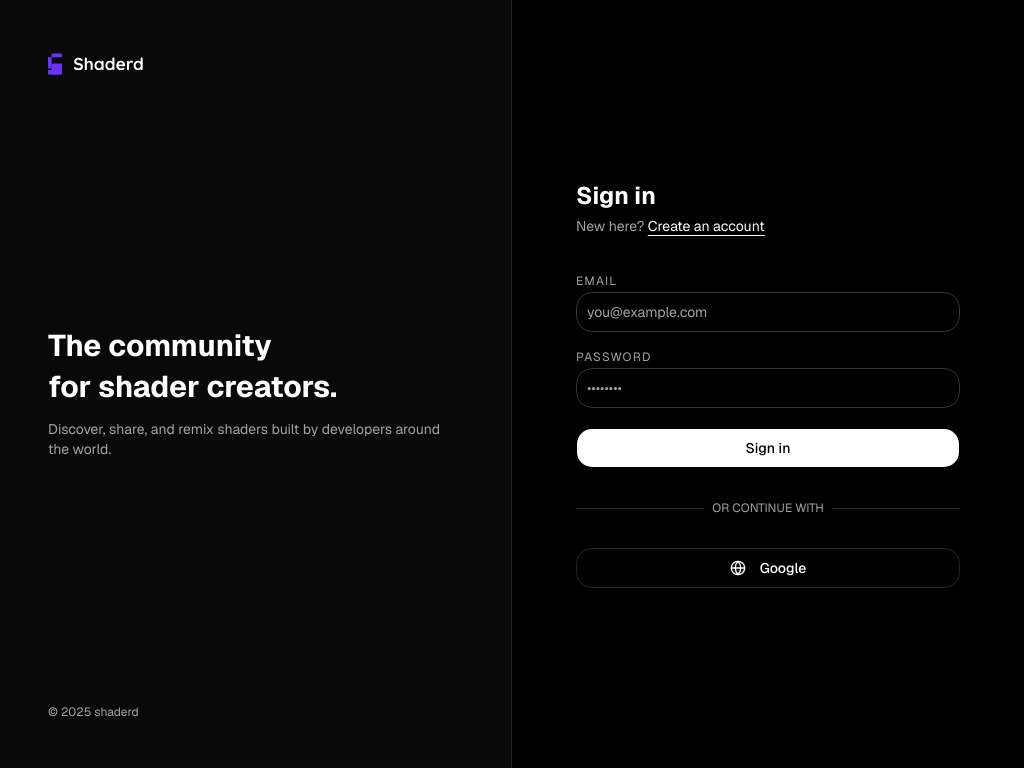
Test case: login page › shows validation errors and failed login message
Expected: the heading "Sign in" is shown, x1=576 y1=180 x2=656 y2=211
Expected: the link "Create an account" is shown, x1=648 y1=217 x2=765 y2=235
Click the button "Sign in" at (768, 448), box x1=576 y1=428 x2=960 y2=468
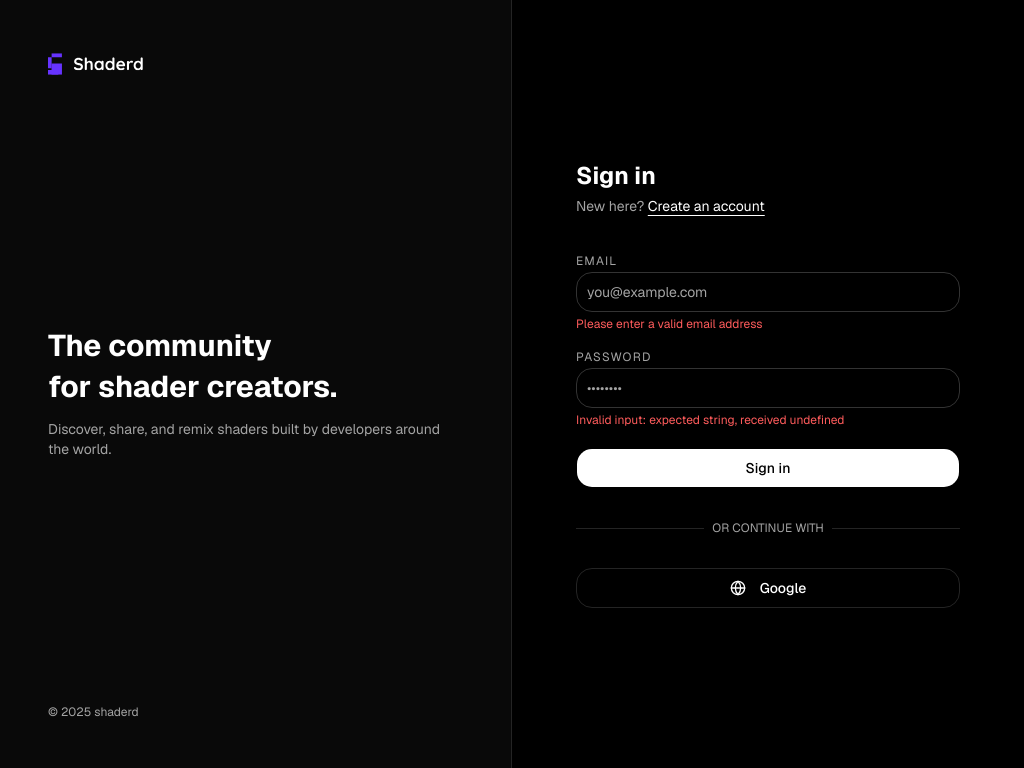
Result: the text "Please enter a valid email address" is shown at x1=576 y1=316 x2=763 y2=332
Result: the text "Invalid input: expected string, received undefined" is shown at x1=576 y1=412 x2=844 y2=428
Type "john@example.com" into the field with placeholder "you@example.com" at (768, 292), box x1=576 y1=272 x2=960 y2=312
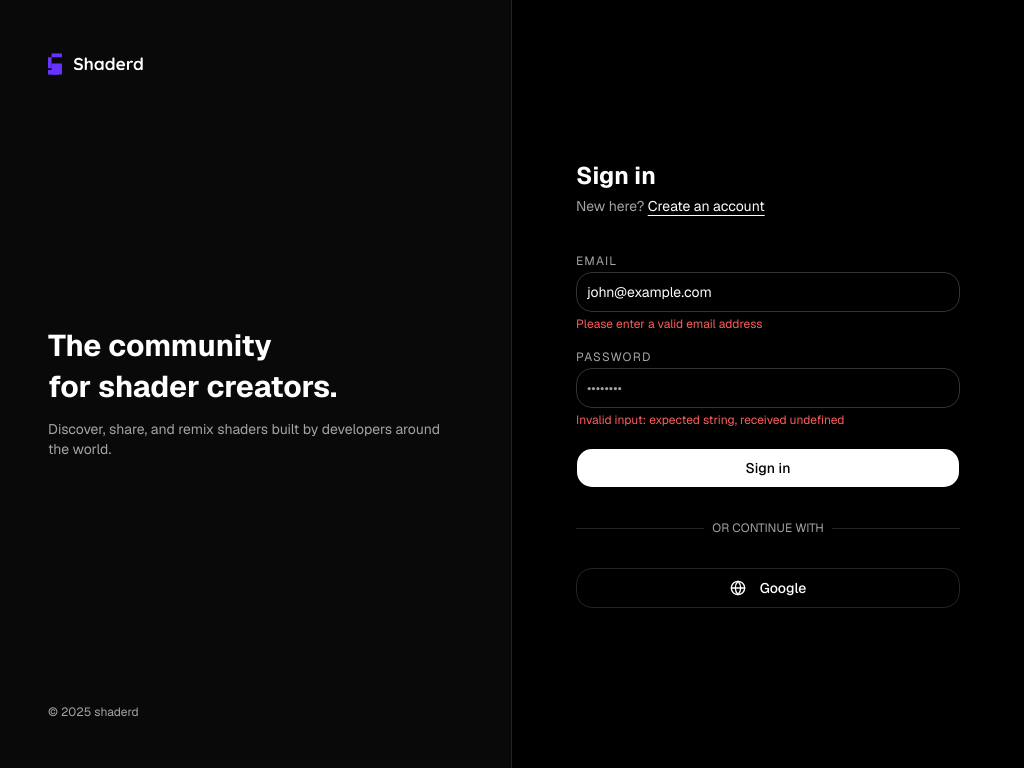
Type "secret" into the password field with placeholder "••••••••" at (768, 388), box x1=576 y1=368 x2=960 y2=408
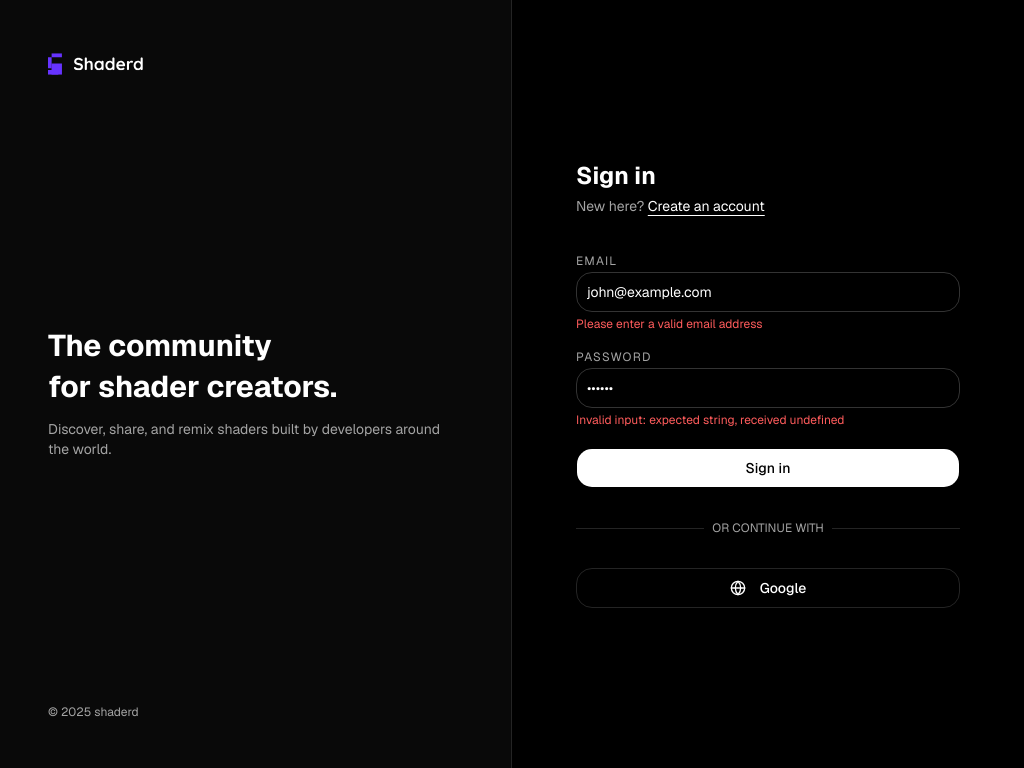
Click the button "Sign in" at (768, 468), box x1=576 y1=448 x2=960 y2=488
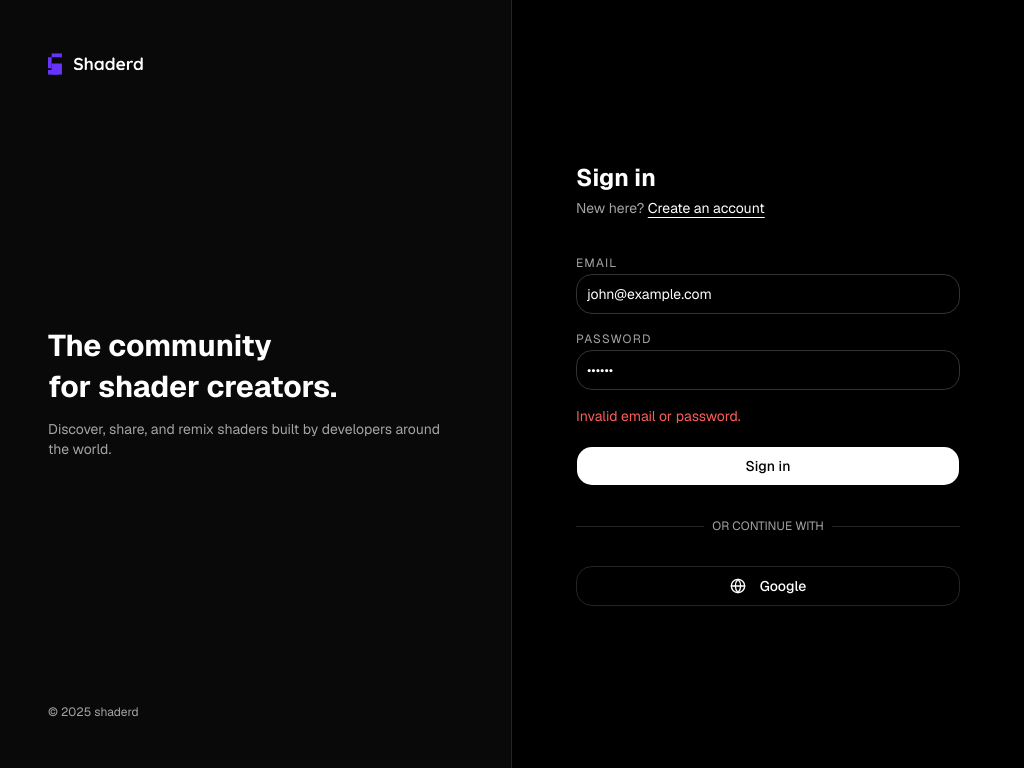
Result: the text "Invalid email or password." is shown at x1=576 y1=407 x2=741 y2=425
